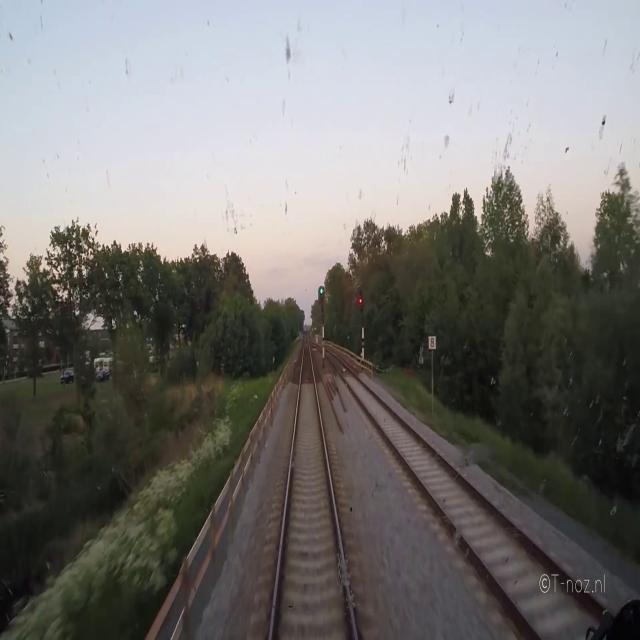rail-track: (330, 356, 604, 639), (273, 340, 353, 639)
